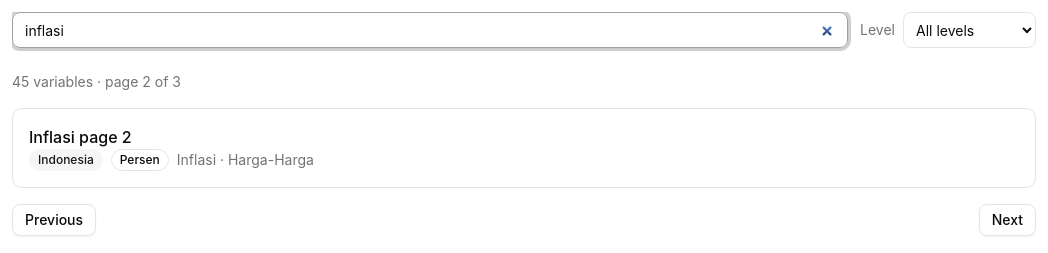
VariableSearch › paginates, keeping the page in the URL
Check: the link "Inflasi page 2" is shown, box [29,127,132,147]
Check: the text "45 variables · page 2 of 3" is shown, box [12,73,181,90]
Click the button "Next" at (1007, 220), box [979,204,1036,236]
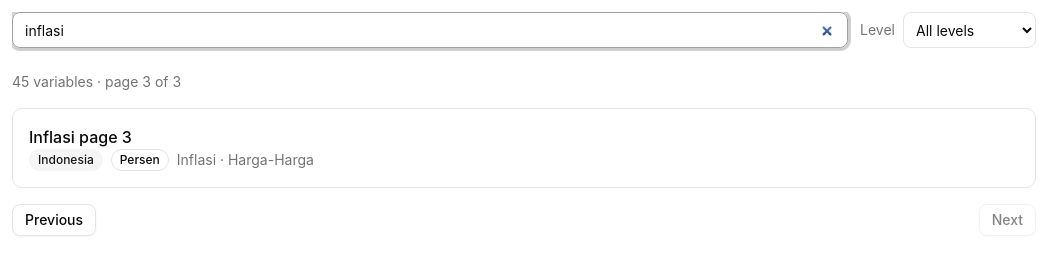
Check: the link "Inflasi page 3" is shown, box [29,127,132,147]
Check: the button "Next" is disabled, box [979,204,1036,236]
Click the button "Previous" at (54, 220), box [12,204,96,236]
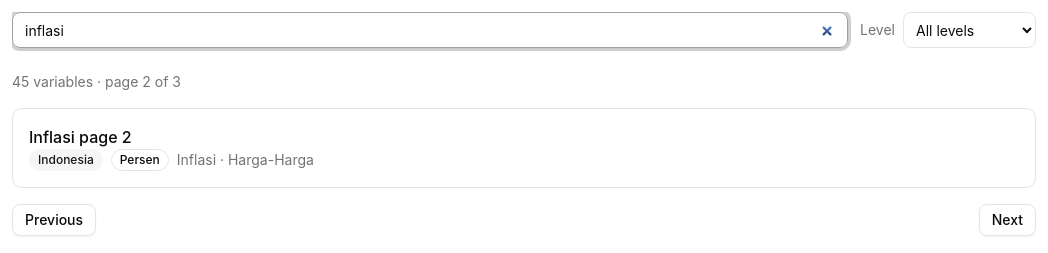
Click the button "Previous" at (54, 220), box [12,204,96,236]
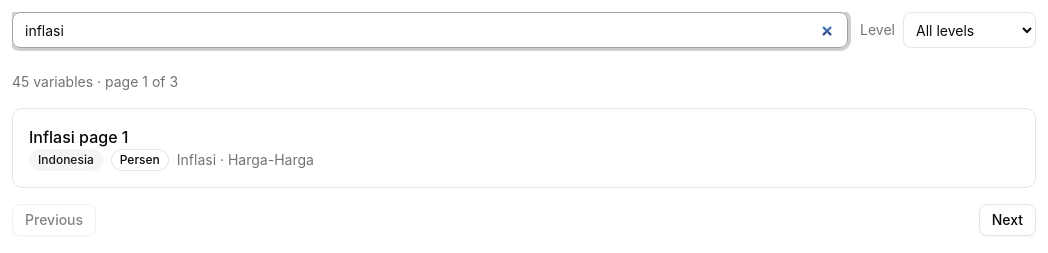
Check: the link "Inflasi page 1" is shown, box [29,127,128,147]
Check: the button "Previous" is disabled, box [12,204,96,236]
